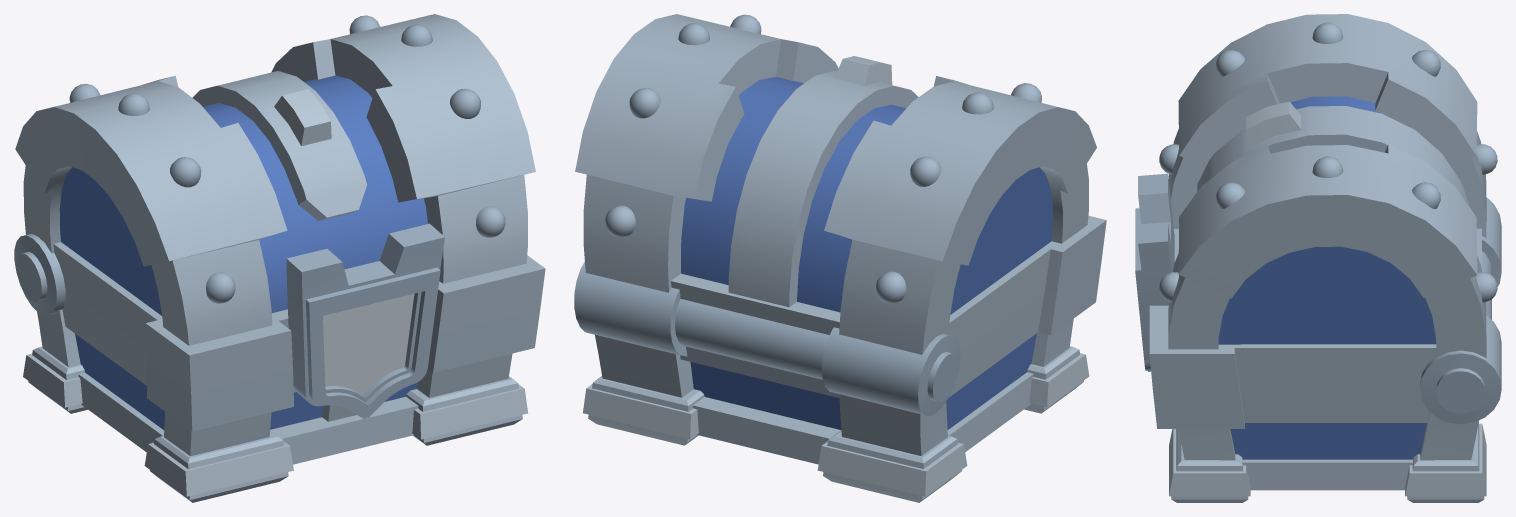
Rendered from Chest I Multi.fbx.
The picture shows the model from 3 angles, left to right: view 1: azimuth 30°, elevation 25°; view 2: azimuth 150°, elevation 25°; view 3: azimuth 270°, elevation 25°; orthographic projection. The views are drawn at different scales.
Parts seen in each view (by area): view 1: Chest I Cover, Chest I, Chest I Icon; view 2: Chest I Cover, Chest I; view 3: Chest I Cover, Chest I, Chest I Icon.
Boxes of the visible parts, x1,y1,x2,y2 form: Chest I Cover: (14,14,545,393); Chest I: (23,290,540,502); Chest I Icon: (286,223,444,419); Chest I Cover: (574,14,1106,415); Chest I: (583,261,1101,502); Chest I Cover: (1149,14,1501,424); Chest I: (1153,385,1486,502); Chest I Icon: (1135,173,1174,371).
Size of the model in its own units: 3.07 by 2.66 by 2.63.
